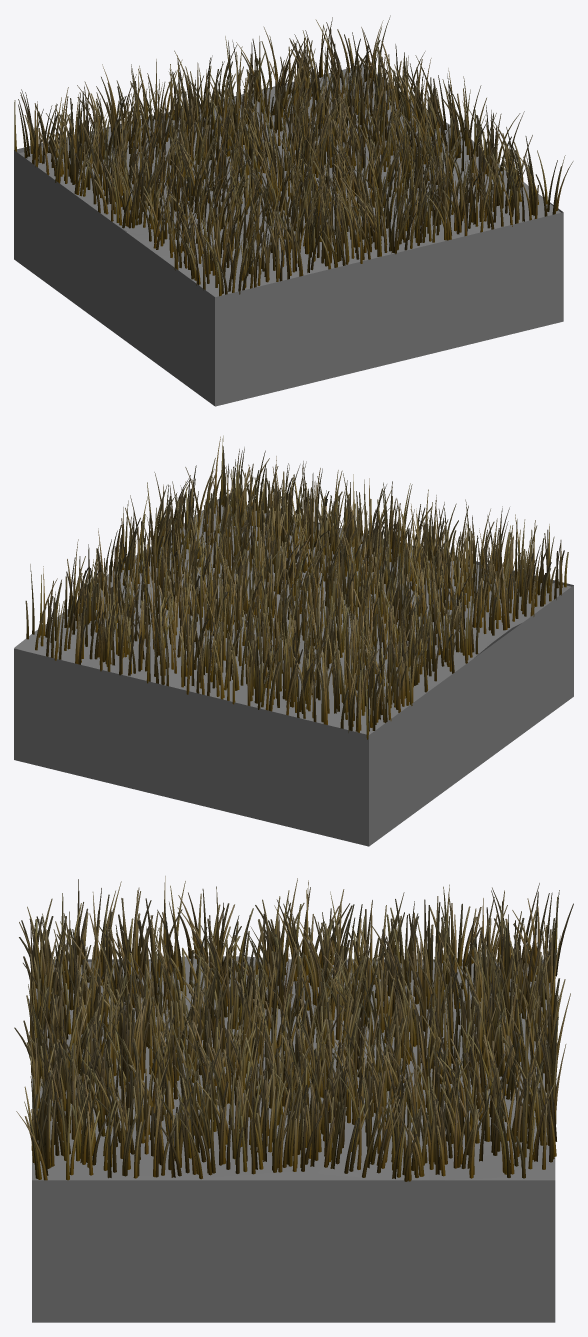
File: cespedBase_Low.fbx
3 views of the same model, one above another, from view 1: azimuth 30°, elevation 25°; view 2: azimuth 150°, elevation 25°; view 3: azimuth 270°, elevation 25° (orthographic). The views are drawn at different scales.
Visible parts, largest first — view 1: Object003, M1, tierra; view 2: Object003, M1, tierra; view 3: Object003, M1, tierra.
Part boxes in pixels (left/top/right/bottom): Object003: left=14, top=15, right=573, bottom=296; M1: left=14, top=69, right=563, bottom=406; tierra: left=19, top=64, right=560, bottom=296; Object003: left=25, top=435, right=568, bottom=739; M1: left=14, top=499, right=573, bottom=846; tierra: left=14, top=501, right=571, bottom=734; Object003: left=14, top=876, right=573, bottom=1181; M1: left=32, top=959, right=555, bottom=1322; tierra: left=32, top=956, right=555, bottom=1180.
Size of the model in its own units: 106 by 49.43 by 107.
